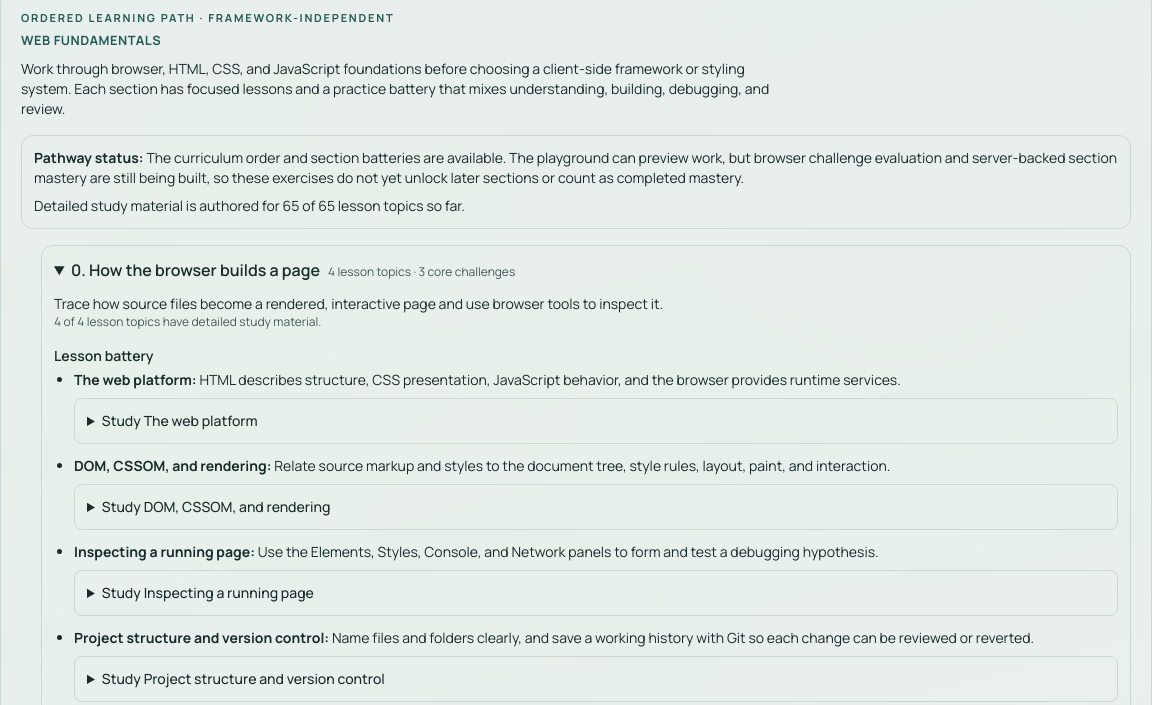
Test: reveals self-guided lesson content and keeps the answer behind an explicit action
The width and height of the screenshot is (1152, 705).
Expected: the text "Detailed study material is authored for 65 of 65 lesson topics so far." is shown, [34,196,465,215]
Click the heading "Study The web platform": click(180, 421) [102,411,258,430]
(page scrolled)
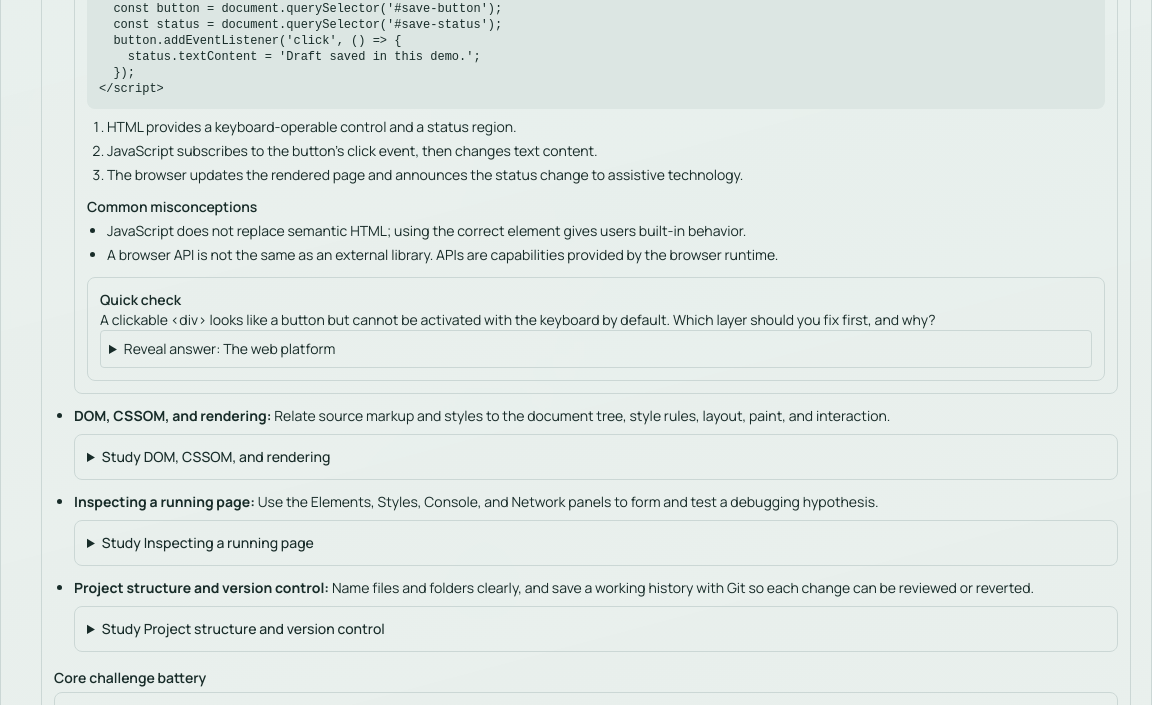
Click the heading "Reveal answer: The web platform": click(230, 349) [124,339,335,358]
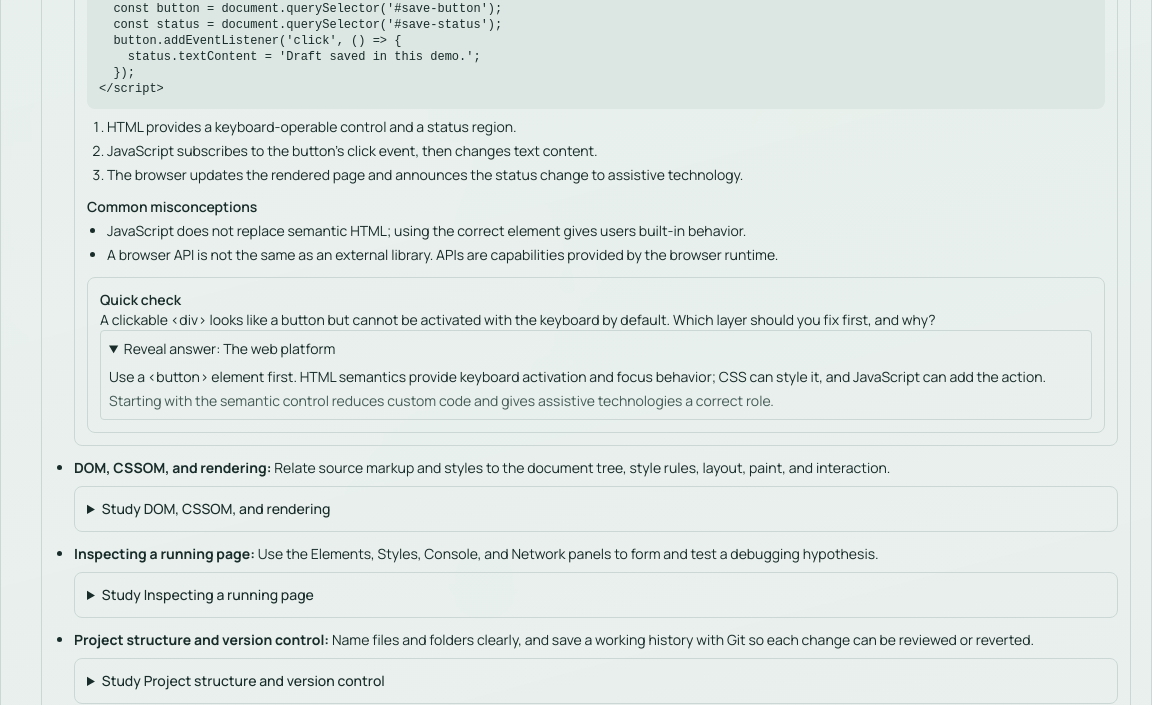
Result: the text "Use a <button> element first" is shown at [109,367,1046,386]
